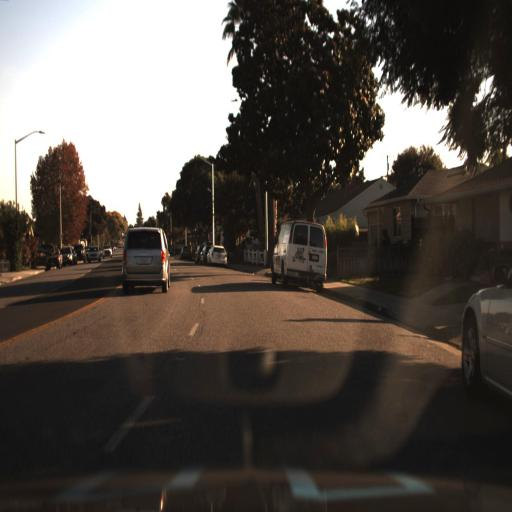car: (458, 265, 512, 413), (268, 217, 330, 294), (122, 223, 173, 293), (59, 241, 74, 271), (205, 245, 226, 266), (74, 239, 89, 268), (44, 247, 62, 271), (84, 242, 102, 265), (99, 240, 114, 262), (191, 239, 202, 268), (198, 238, 208, 269), (60, 245, 75, 265), (88, 246, 102, 266)
